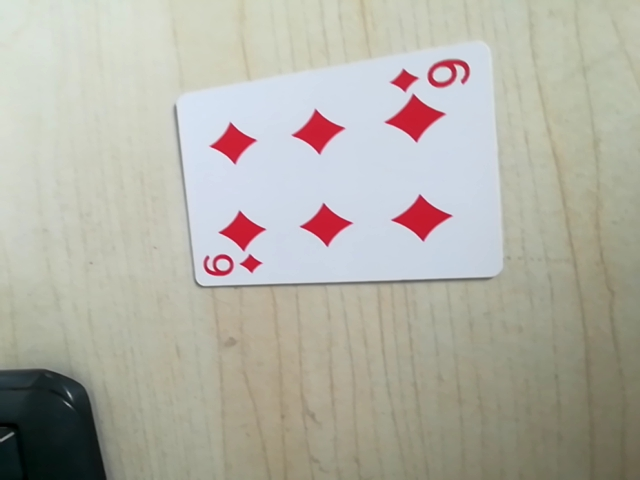fk 6: (388, 52, 475, 98), (200, 248, 266, 284)
